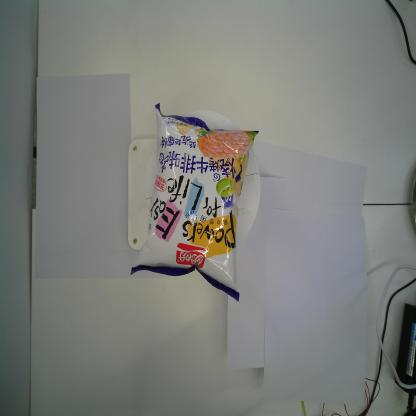Puffed Food: (131, 102, 259, 303)
